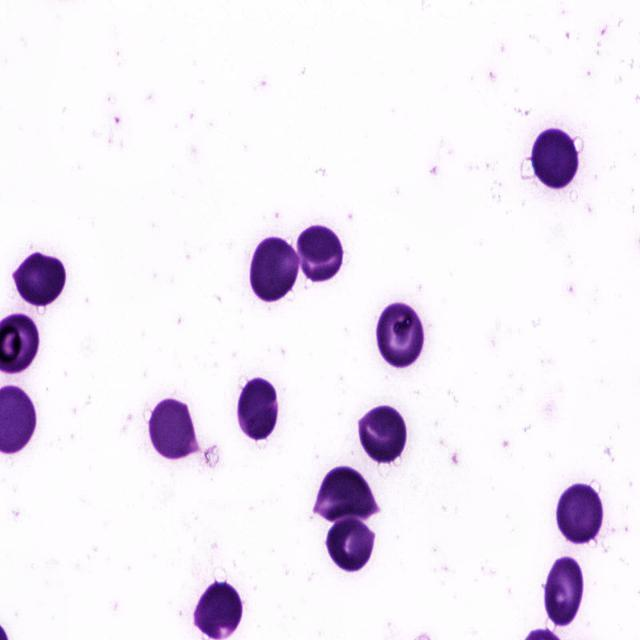red blood cell: (311, 462, 383, 524), (246, 233, 301, 306), (145, 395, 203, 464), (529, 124, 582, 194), (378, 299, 427, 371), (356, 403, 410, 468), (554, 479, 605, 546), (236, 371, 281, 446), (190, 578, 246, 636), (325, 514, 378, 575), (543, 553, 585, 628), (295, 223, 344, 286), (12, 254, 66, 307)
